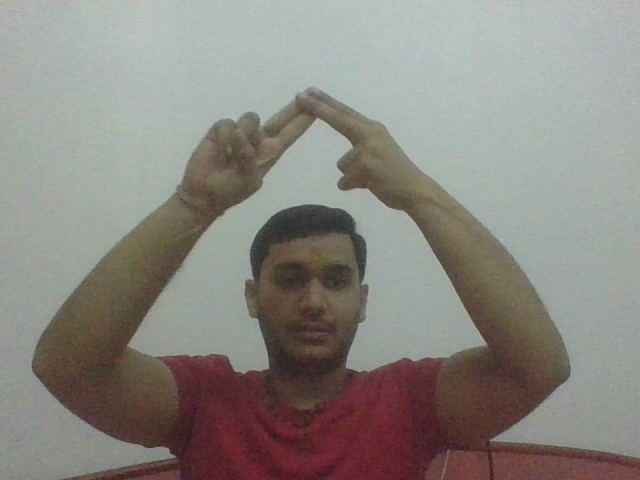F: (177, 85, 434, 205)
